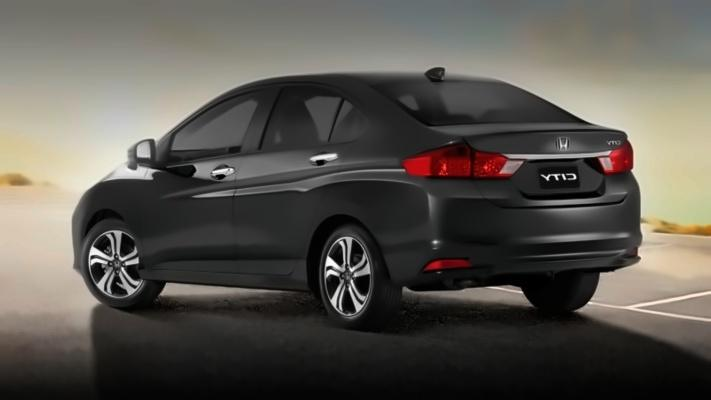Car boot: (438, 119, 639, 209)
Fender - -F-L-: (80, 143, 158, 241)
Fender - -R-L-: (300, 88, 431, 284)
Front bumper: (63, 213, 88, 279)
Passenger-s door - -F-L-: (132, 72, 270, 294)
Passenger-s door - -R-L-: (224, 58, 361, 294)
Rear bumper: (372, 177, 647, 294)
Rear light - -L-: (399, 139, 526, 179)
Rear light - -R-: (594, 136, 639, 176)
Side bumper - -L-: (132, 243, 318, 300)
Side mirror - -L-: (127, 136, 166, 174)
